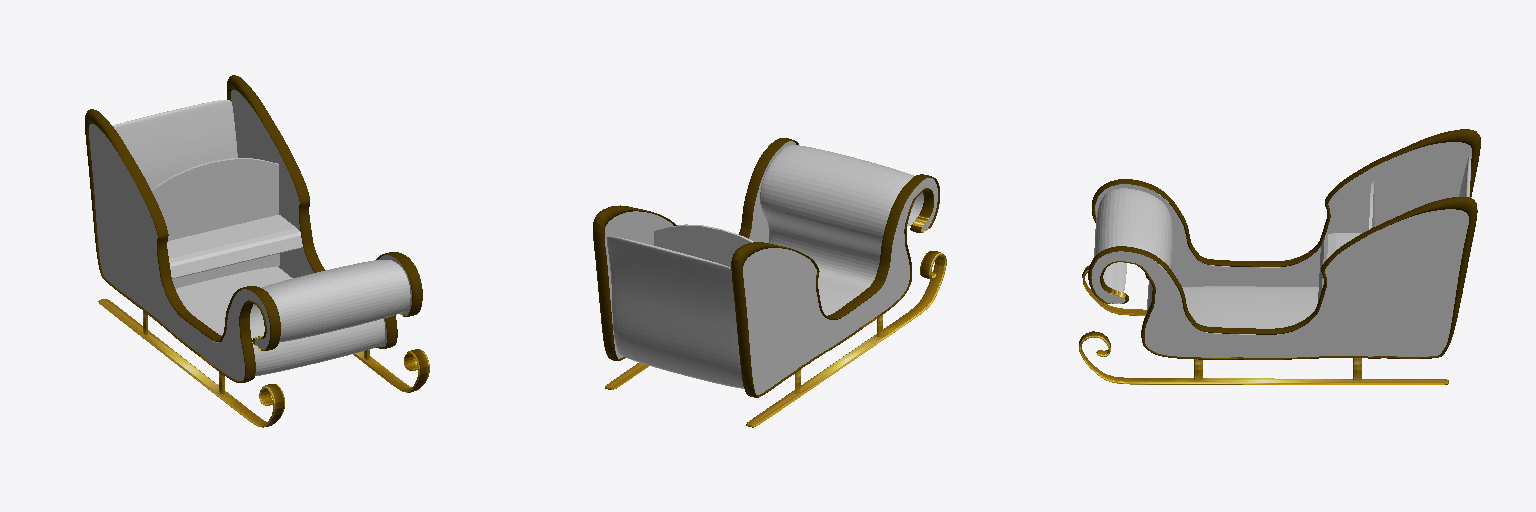
3 renders of one model, left to right at view 1: azimuth 30°, elevation 25°; view 2: azimuth 150°, elevation 25°; view 3: azimuth 270°, elevation 25°, orthographic.
Visible parts, largest first — view 1: Cube, Plane, Plane.001, Cube.001, Cube.002, Cube.003; view 2: Cube, Plane, Plane.001, Cube.003, Cube.001; view 3: Plane, Cube, Plane.001, Cube.003, Cube.002.
Boxes of the visible parts, box(x1,y1,x2,y2) form: Cube: box(113, 100, 410, 375); Plane: box(89, 90, 411, 380); Plane.001: box(85, 75, 422, 382); Cube.001: box(151, 158, 279, 288); Cube.002: box(167, 215, 302, 278); Cube.003: box(98, 299, 429, 427); Cube: box(607, 145, 923, 388); Plane: box(605, 141, 937, 394); Plane.001: box(593, 138, 939, 397); Cube.003: box(605, 251, 946, 427); Cube.001: box(654, 224, 753, 267); Plane: box(1091, 142, 1471, 357); Cube: box(1094, 156, 1470, 328); Plane.001: box(1088, 129, 1480, 359); Cube.003: box(1079, 265, 1448, 384); Cube.002: box(1318, 233, 1361, 300).
Bounding box in the file's own units: 3.78 × 4.22 × 8.17.
Materials: 5 (1 with a texture image).